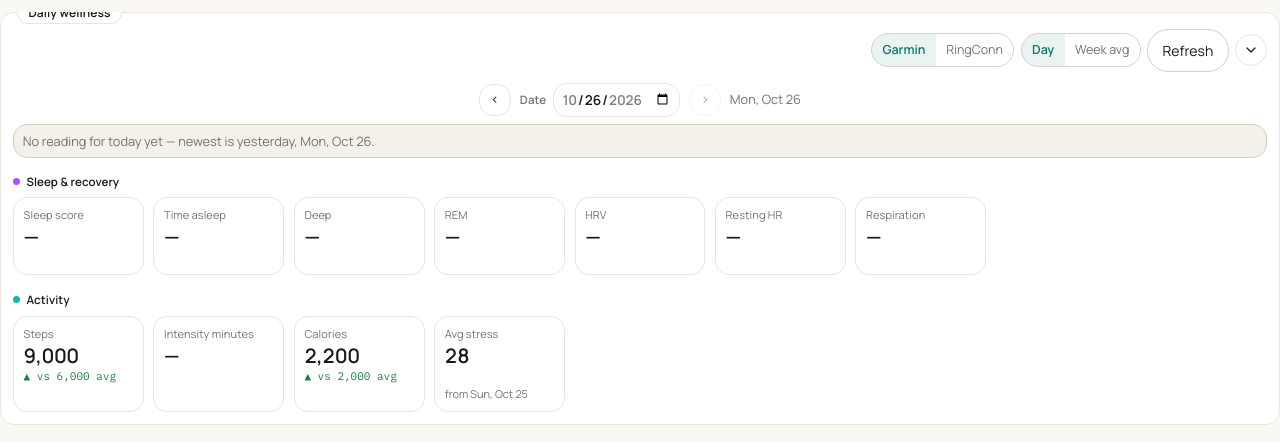
Test: GarminWellnessCard › names the day a carried-forward value came from
Expected: the text "9,000" is shown, [24,342,79,369]
Expected: the text "from Sun, Oct 25" is shown, [445,386,528,401]
On the day it belongs to, the note is gone.
Click the button named "Previous day": click(495, 100) [479,84,511,116]
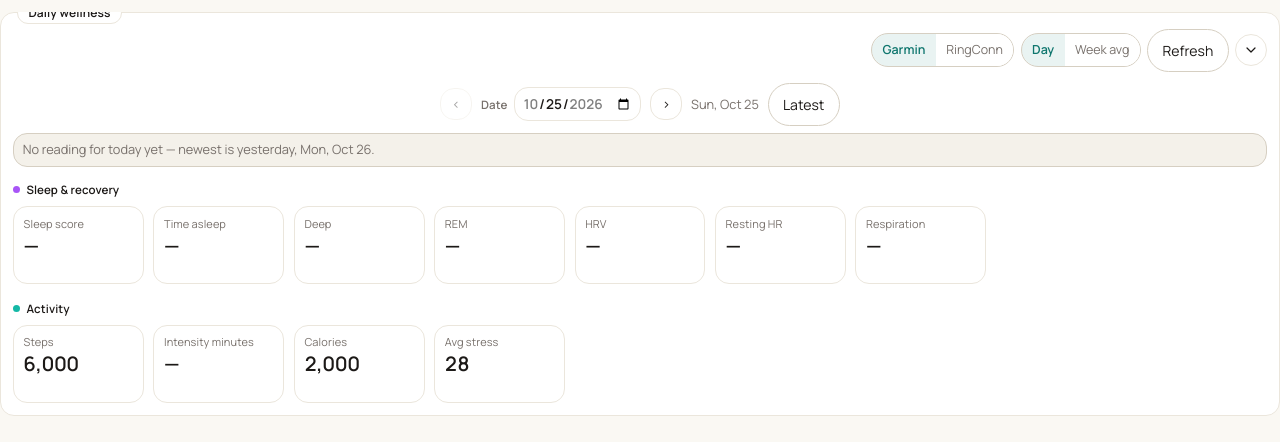
Now the text "from " is gone
